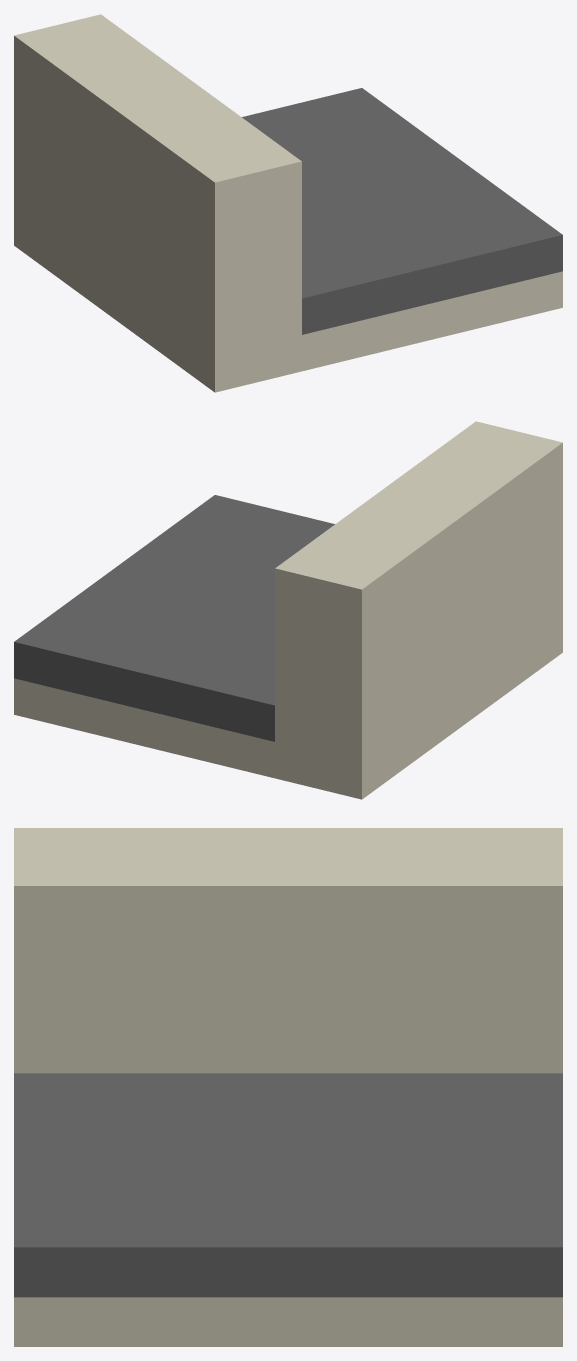
Rendered from roadTile_084.fbx.
3 renders of one model, top to bottom at view 1: azimuth 30°, elevation 25°; view 2: azimuth 150°, elevation 25°; view 3: azimuth 270°, elevation 25°, orthographic. The views are drawn at different scales.
Visible parts, largest first — view 1: roadTile_084; view 2: roadTile_084; view 3: roadTile_084.
Part boxes in pixels (x1,y1,x2,y2): roadTile_084: [14, 14, 562, 392]; roadTile_084: [14, 421, 562, 799]; roadTile_084: [14, 828, 562, 1346].
Size of the model in its own units: 118 by 68.11 by 118.
